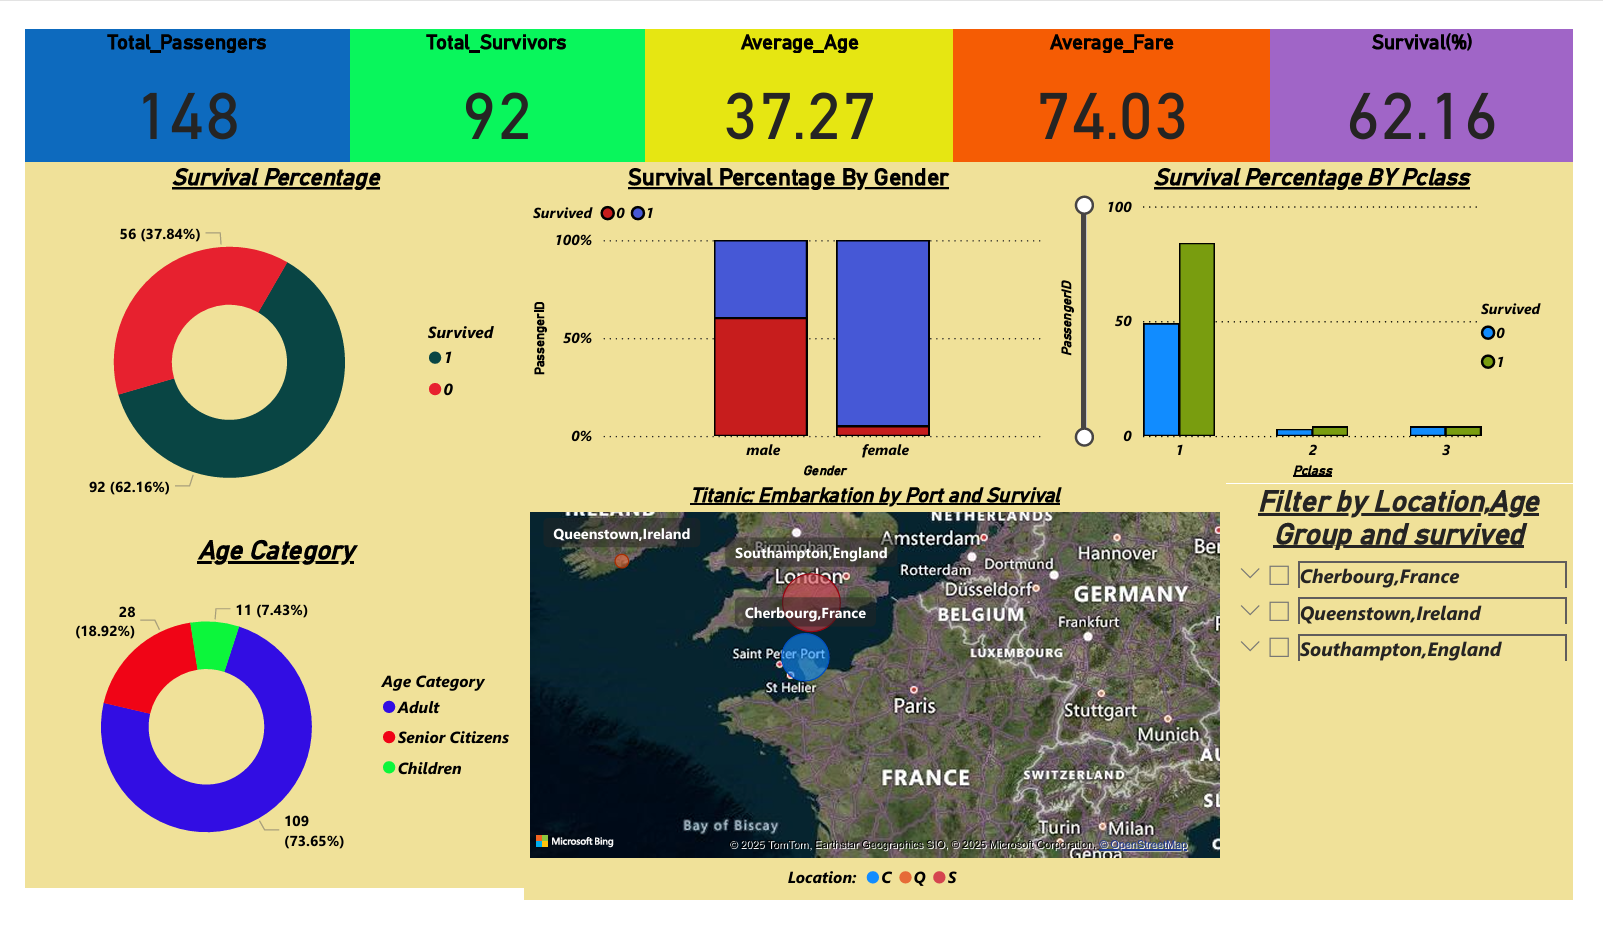

What the dashboard file says about the page in this screenshot:
{"tool":"powerbi","page":{"name":"Page 1","canvas":[1280,720],"ordinal":0},"visuals":[{"type":"donutChart","title":"Survival Percentage","fields":{"Category":["Titanic-Dataset.Survived"],"Y":["CountNonNull(Titanic-Dataset.PassengerId)"]},"box":[0,110,415,307.5],"z":0},{"type":"hundredPercentStackedColumnChart","title":"Survival Percentage By Gender","fields":{"Category":["Titanic-Dataset.Sex"],"Y":["CountNonNull(Titanic-Dataset.PassengerId)"],"Series":["Titanic-Dataset.Survived"]},"box":[415,110,432.5,265],"z":1000},{"type":"clusteredColumnChart","title":"Survival Percentage BY Pclass","fields":{"Category":["Titanic-Dataset.Pclass"],"Y":["CountNonNull(Titanic-Dataset.PassengerId)"],"Series":["Titanic-Dataset.Survived"]},"box":[847.5,110,432.5,265],"z":2000},{"type":"donutChart","title":"Age Category","fields":{"Category":["Titanic-Dataset.Age Category"],"Y":["CountNonNull(Titanic-Dataset.PassengerId)"]},"box":[0,418.3,415,301.7],"z":3000},{"type":"map","title":"Titanic: Embarkation by Port and Survival ","fields":{"Category":["Titanic-Dataset.Location"],"Series":["Titanic-Dataset.Embarked"],"Size":["CountNonNull(Titanic-Dataset.PassengerId)"]},"box":[412.5,375,580,345],"z":4000},{"type":"slicer","title":"Filter by Location,Age Group and survived","fields":{"Values":["Titanic-Dataset.Location","Titanic-Dataset.Age Category","Titanic-Dataset.Survived"]},"box":[992,376,288,344],"z":5000},{"type":"card","title":"Total_Survivors","fields":{"Values":["Titanic-Dataset.Survived_(1)"]},"box":[268,0,244,110],"z":6000},{"type":"card","title":"Average_Age","fields":{"Values":["Titanic-Dataset.Avg Age"]},"box":[512.5,0,255,110],"z":7000},{"type":"card","title":"Average_Fare","fields":{"Values":["Avg(Titanic-Dataset.Fare)"]},"box":[768,0,262,110],"z":8000},{"type":"card","title":"Total_Passengers","fields":{"Values":["CountNonNull(Titanic-Dataset.PassengerId)"]},"box":[0,0,267.5,110],"z":9000},{"type":"card","title":"Survival(%)","fields":{"Values":["Titanic-Dataset.Survival(%)"]},"box":[1030,0,250,110],"z":10000}]}

Visuals, with their boxes in screenshot pixels (x1, y1, x2, y2), scaled from the page's 1280x720 canvas onto the 1603x925 screenshot:
"Survival Percentage" donutChart: 0,141,520,536
"Survival Percentage By Gender" hundredPercentStackedColumnChart: 520,141,1061,482
"Survival Percentage BY Pclass" clusteredColumnChart: 1061,141,1602,482
"Age Category" donutChart: 0,537,520,924
"Titanic: Embarkation by Port and Survival " map: 517,482,1243,924
"Filter by Location,Age Group and survived" slicer: 1242,483,1602,924
"Total_Survivors" card: 336,0,641,141
"Average_Age" card: 642,0,961,141
"Average_Fare" card: 962,0,1290,141
"Total_Passengers" card: 0,0,335,141
"Survival(%)" card: 1290,0,1602,141
